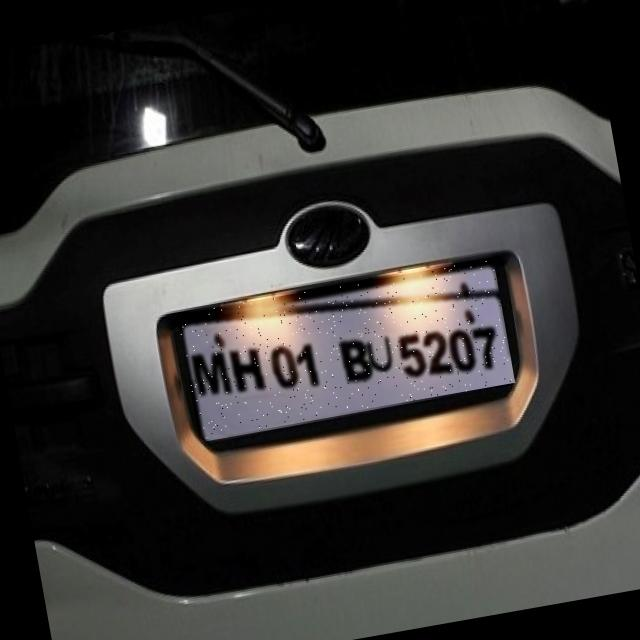Plate: (178, 259, 516, 439)
